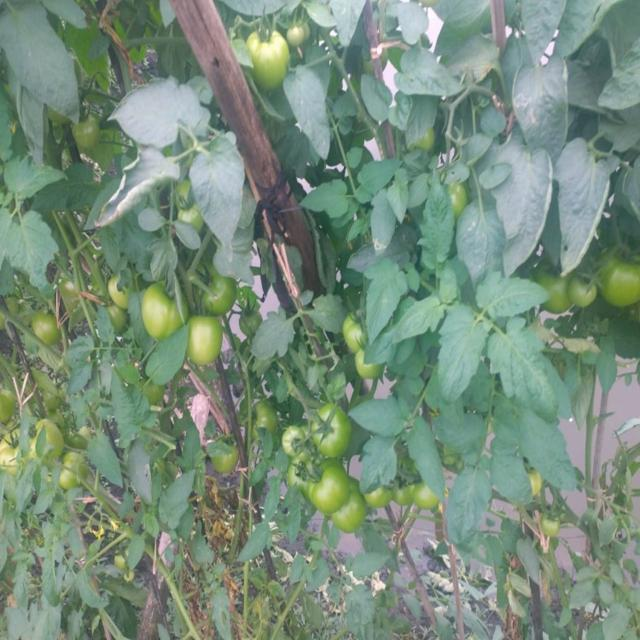tomato: (592, 239, 640, 312), (135, 280, 182, 340), (250, 30, 289, 95), (313, 404, 351, 463), (189, 311, 224, 367), (310, 465, 344, 511), (206, 273, 240, 312), (567, 274, 600, 314), (548, 270, 576, 317), (337, 490, 366, 532), (60, 448, 86, 492), (235, 299, 263, 338), (6, 426, 27, 476), (250, 398, 277, 436), (73, 114, 100, 152), (284, 421, 309, 460), (352, 347, 376, 387), (32, 314, 61, 346), (175, 193, 200, 229), (288, 455, 317, 486), (341, 307, 362, 348), (284, 21, 310, 50), (544, 512, 568, 543), (451, 179, 470, 217), (388, 482, 415, 508), (110, 281, 132, 311), (412, 485, 441, 506), (529, 470, 546, 505), (367, 485, 384, 512)
